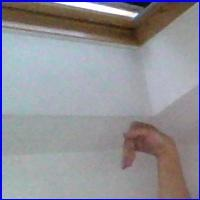del: (117, 112, 175, 175)
